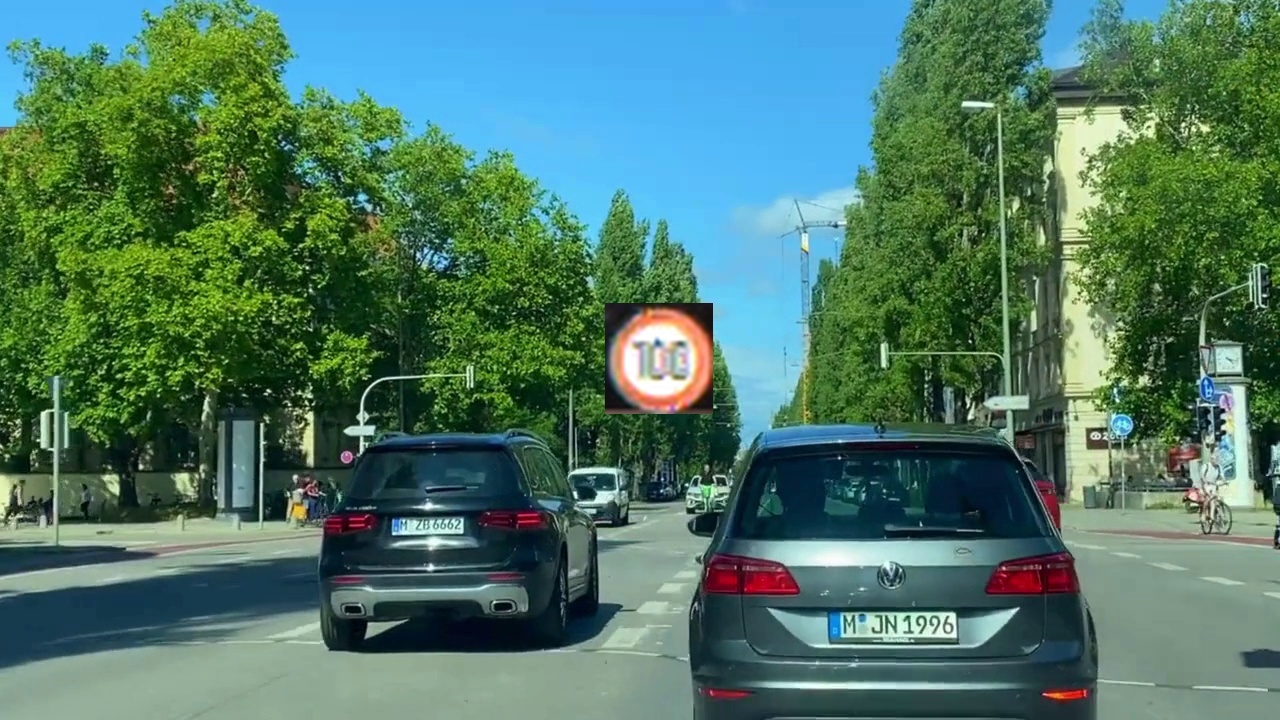Speed 100: (605, 303, 713, 414)
